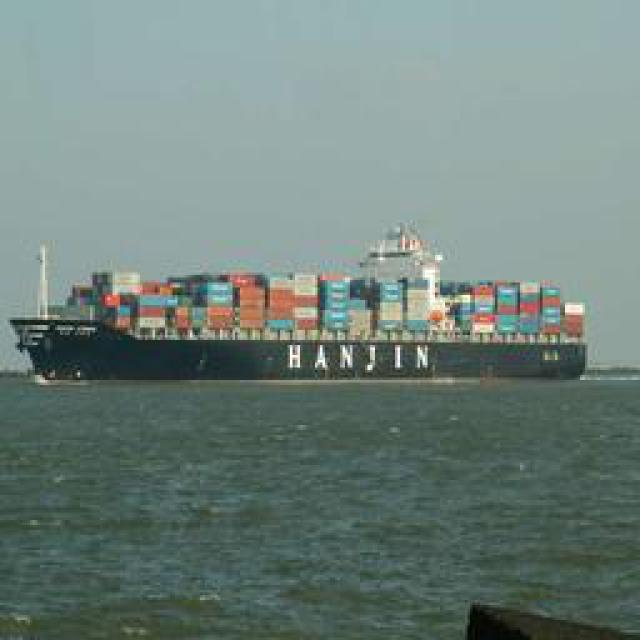Ship: (26, 236, 586, 386)
